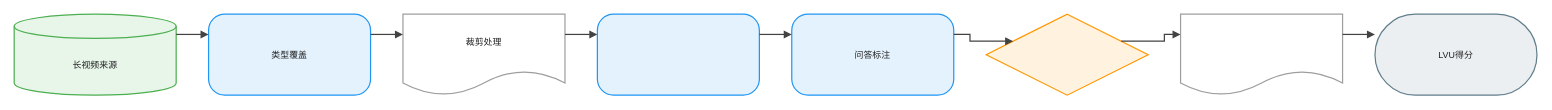
Some shapes in this 1552 by 110 pixel diagram are drawn without their labels. Here are the shapes that lost their labels. From the top down, the box of each, then its label:
(596, 13, 760, 95): 九类任务
(985, 13, 1148, 95): 开发/测试集
(1180, 13, 1343, 95): MLLM评测
